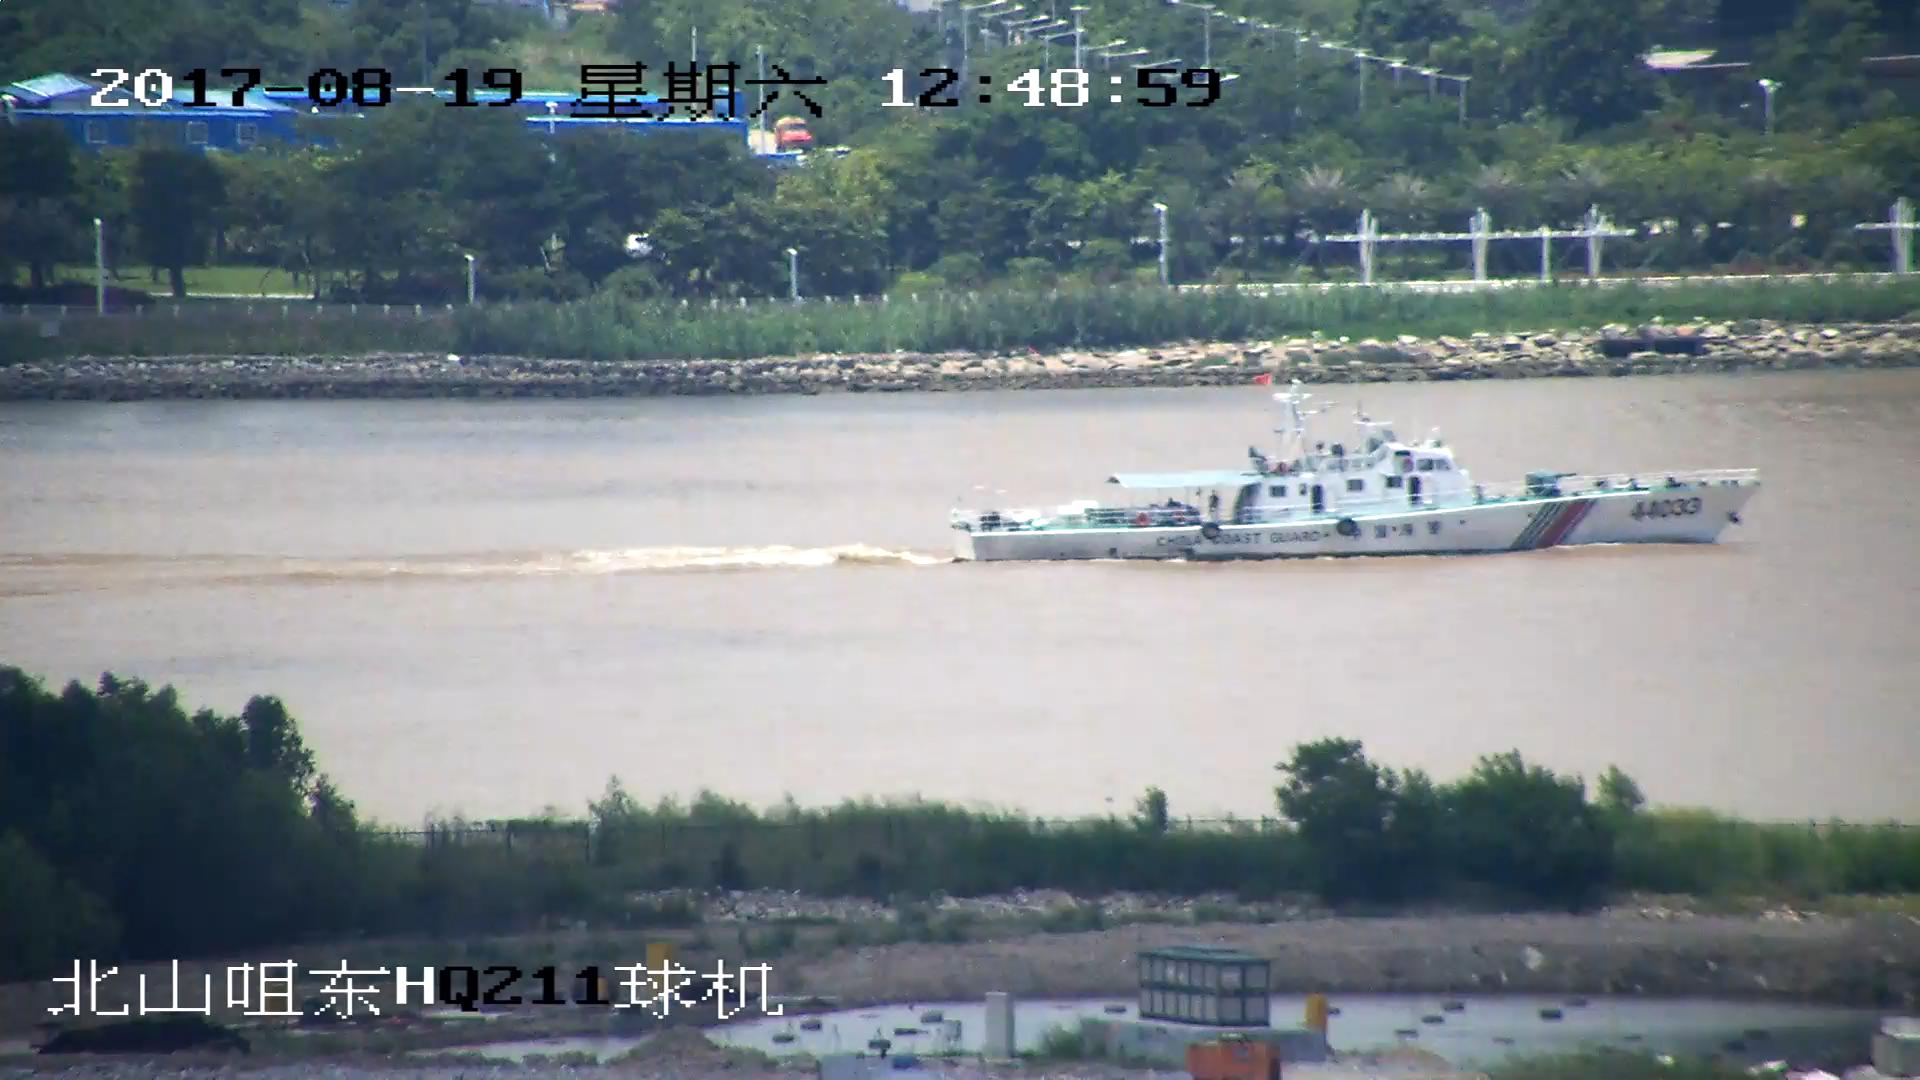passenger ship: (956, 382, 1762, 562)
